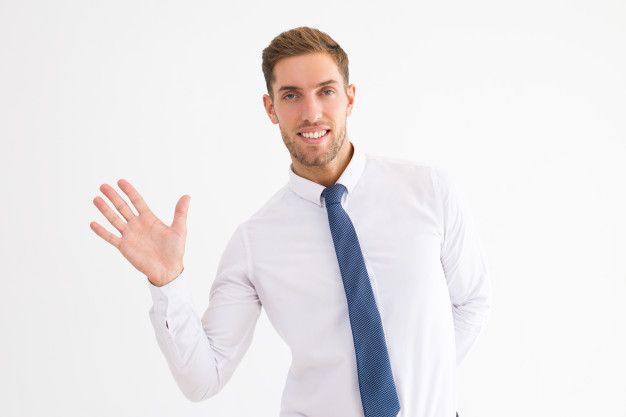open_hand: (75, 169, 206, 287)
